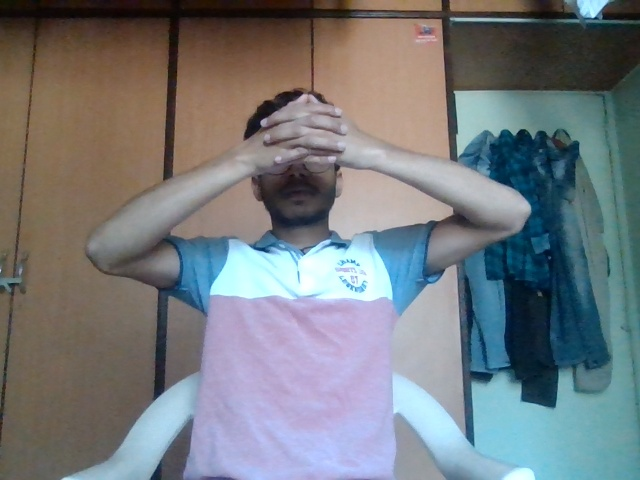good: (233, 82, 407, 196)
